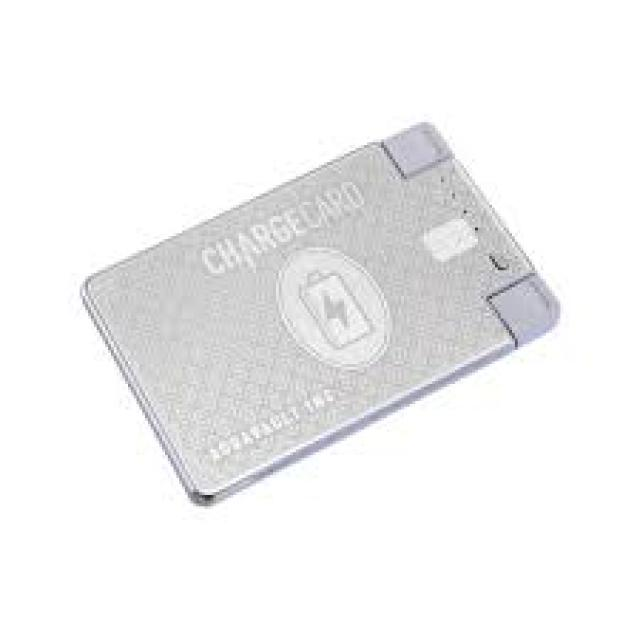power_bank: (77, 116, 571, 514)
